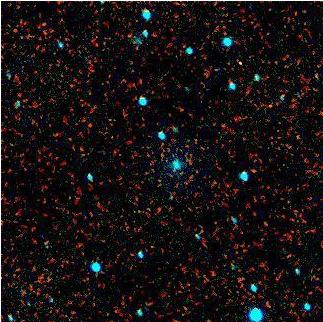star: (155, 181, 185, 211)
